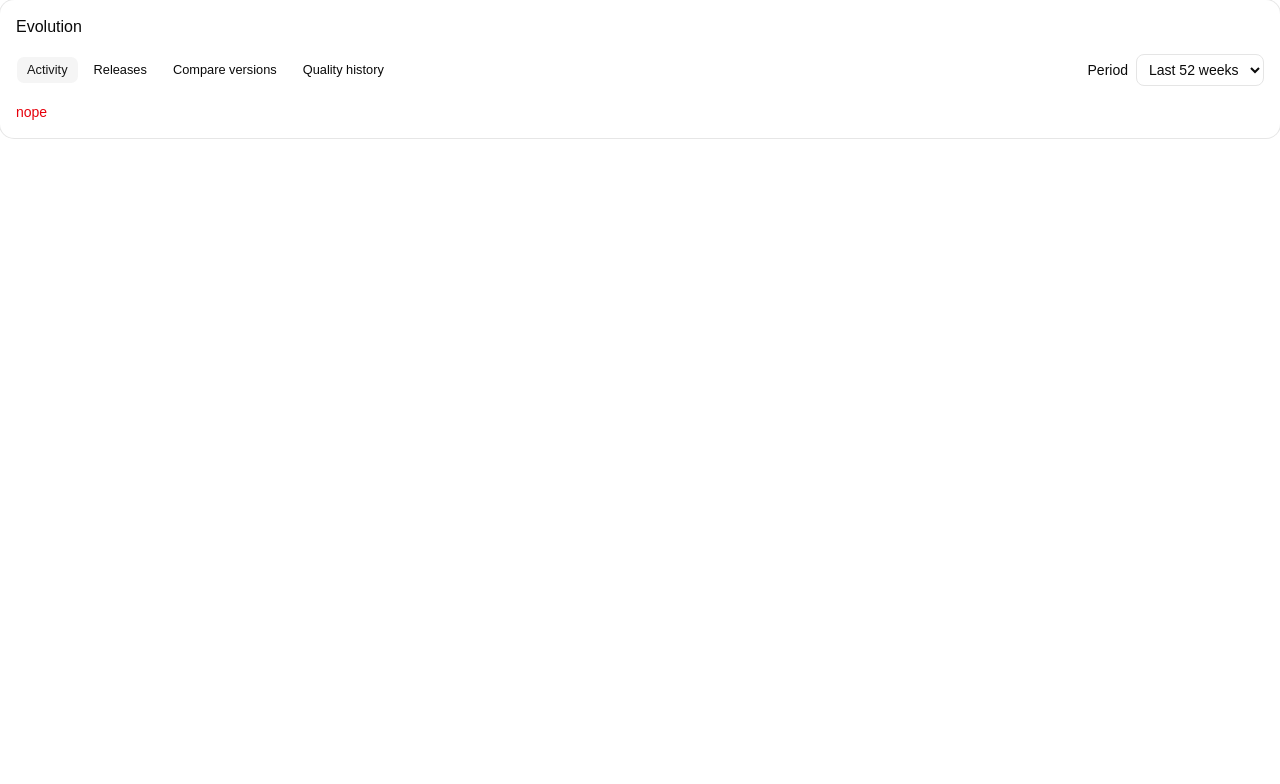
Evolution panel › shows release facts and the AI interpretation in separate, labelled places
Click the tab "Releases" at (120, 70), box [82,56,158,84]
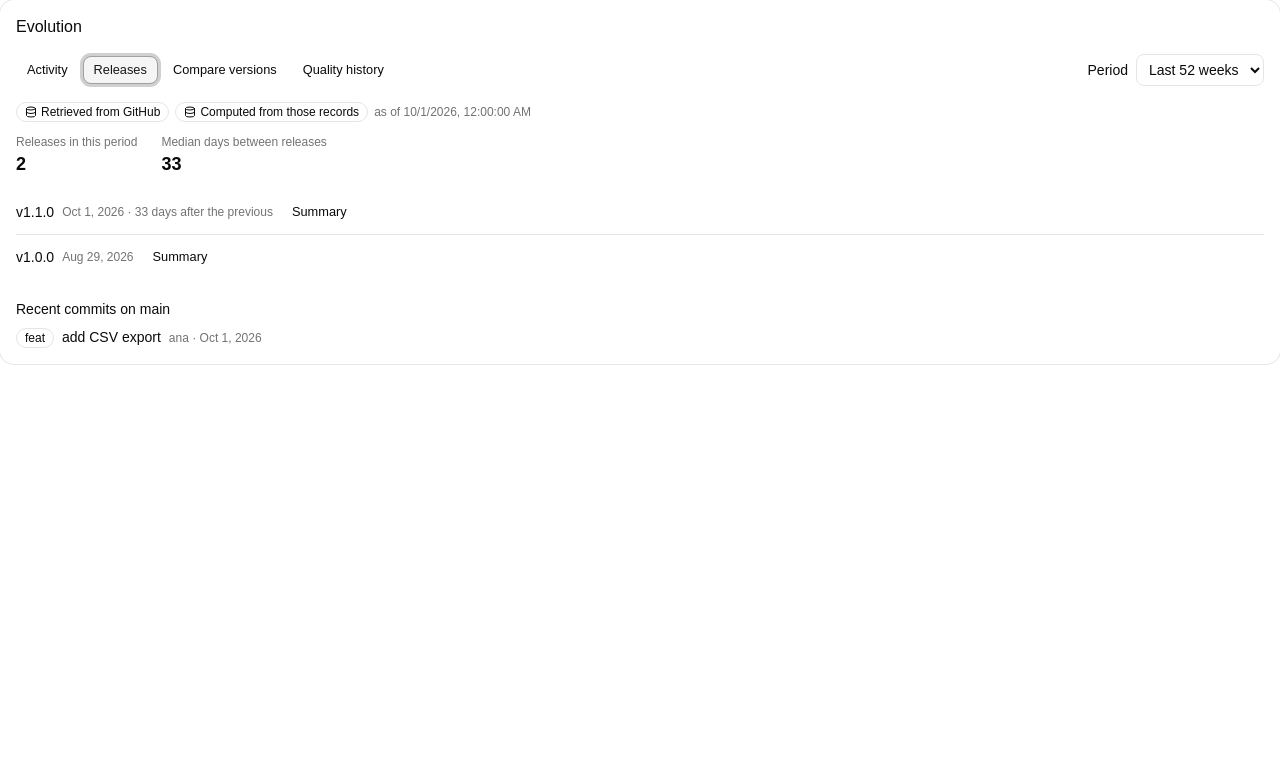
Expected: the text "add CSV export" is shown, [62,327,161,347]
Click the button "Summary" next to "· 33 days after the previous" at (319, 212), box [281,198,358,226]
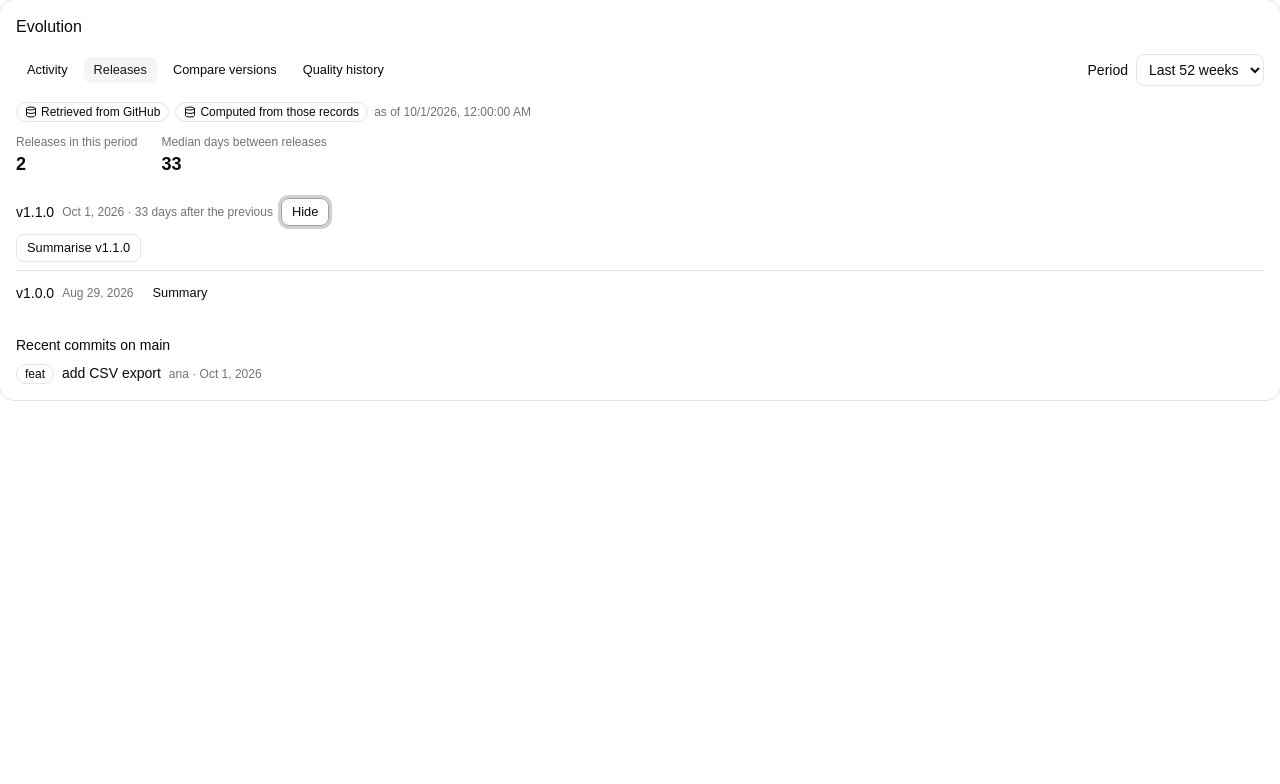
Click the button "Summarise v1.1.0" at (79, 248), box [16,234,141,262]
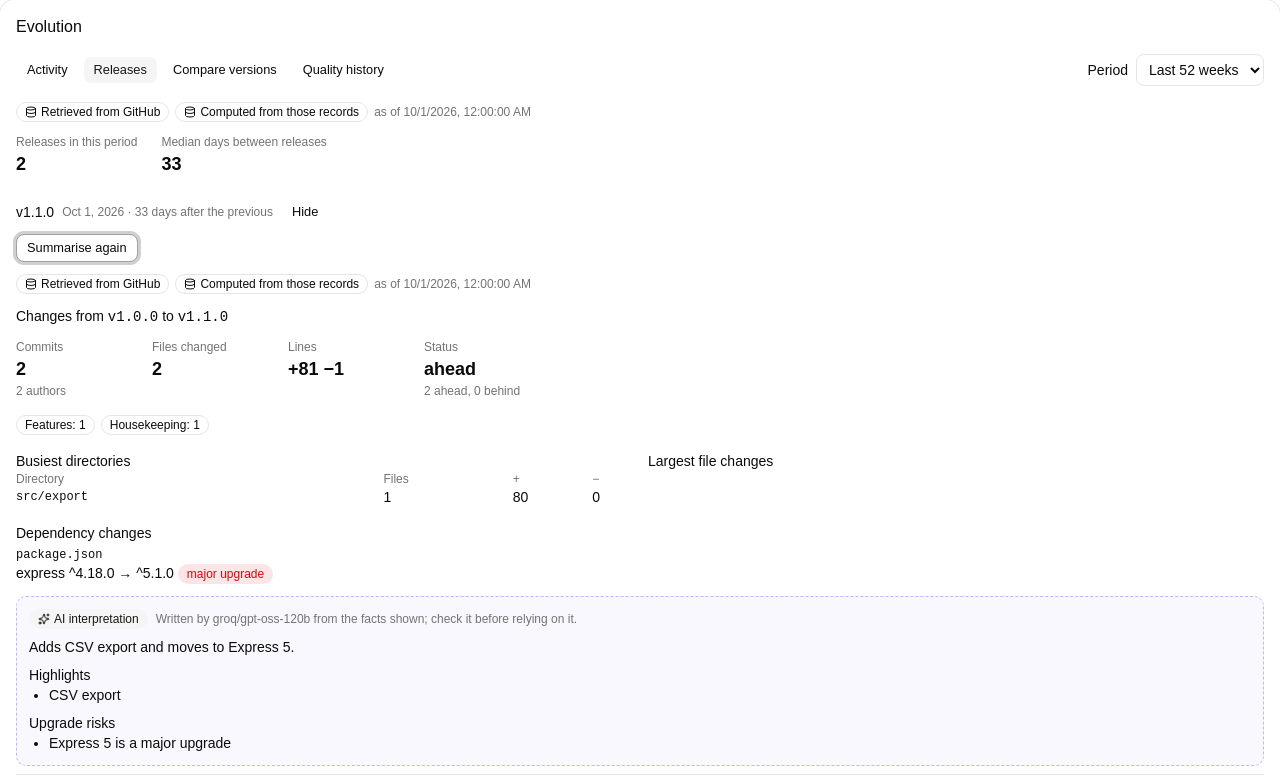
Expected: the text "Retrieved from GitHub" below "· 33 days after the previous" is shown, [41,277,160,291]
Expected: the list item "express ^4.18.0 → ^5.1.0 major upgrade" is shown, [16,564,273,584]
Expected: the text "AI interpretation" is shown, [29,609,148,629]
